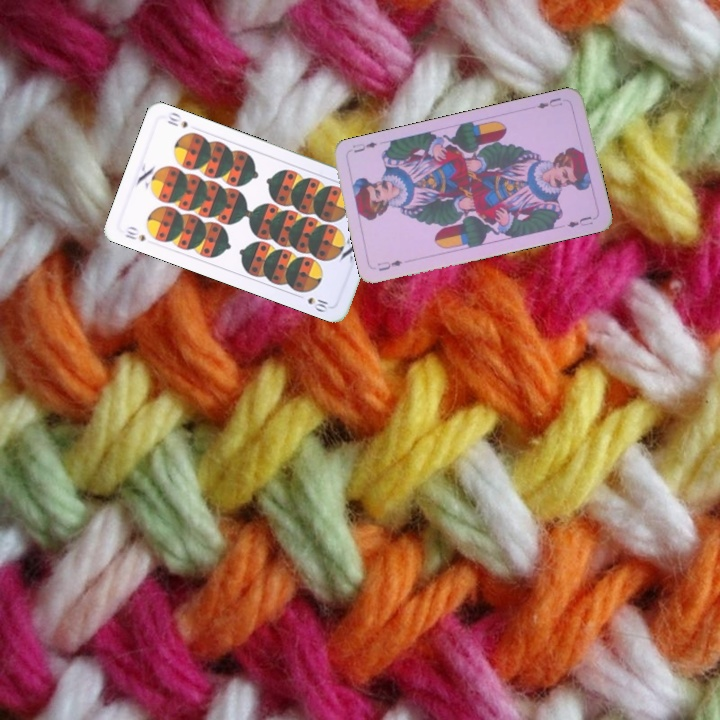EU: (533, 93, 565, 111), (373, 256, 405, 274)
S10: (121, 222, 149, 244)
